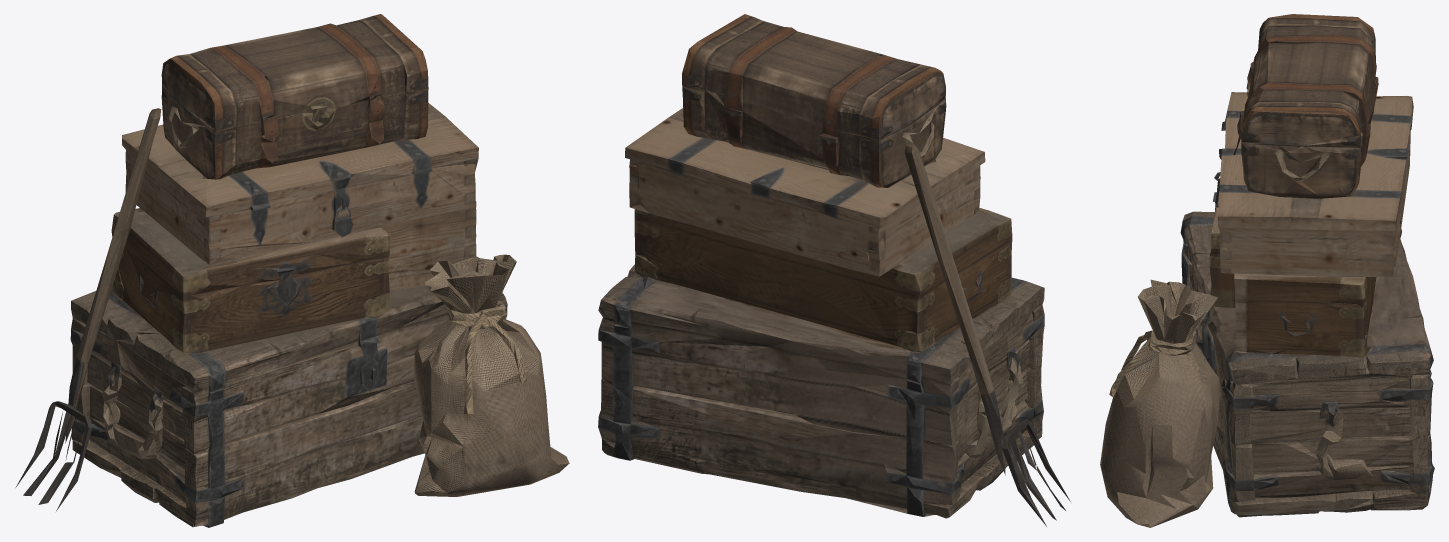
File: storehouse_storage.fbx
3 views of the same model, side by side, from view 1: azimuth 30°, elevation 25°; view 2: azimuth 150°, elevation 25°; view 3: azimuth 270°, elevation 25° (orthographic). The views are drawn at different scales.
Parts seen in each view (by area): view 1: output_unwrapped; view 2: output_unwrapped; view 3: output_unwrapped.
Part boxes in pixels (box(x1,y1,x2,y2)): output_unwrapped: box(15, 14, 569, 527); output_unwrapped: box(598, 14, 1070, 526); output_unwrapped: box(1100, 14, 1434, 527).
Bounding box in the file's own units: 189 × 160 × 128.
1 material, 1 textured.
